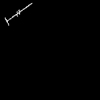treble_crochet: (6, 5, 28, 21)
